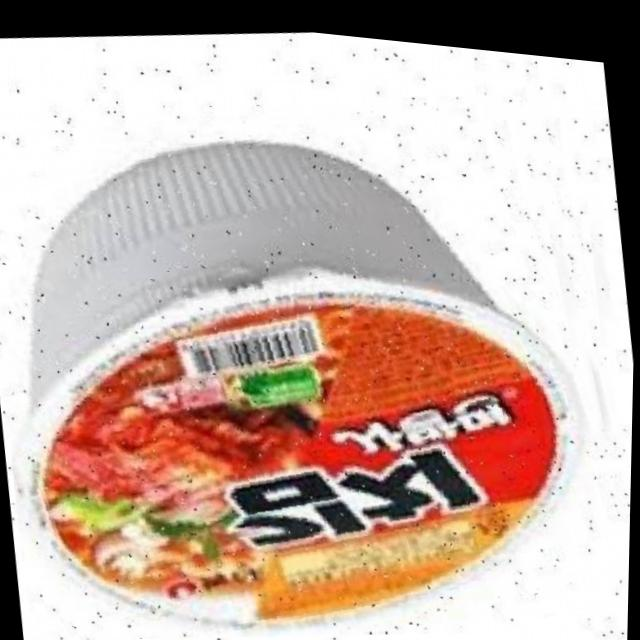Miscellaneous: (0, 38, 639, 640)
